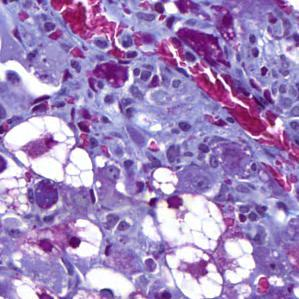ballooning: (4, 114, 95, 189), (149, 189, 226, 254), (159, 242, 226, 294), (214, 233, 257, 288)
